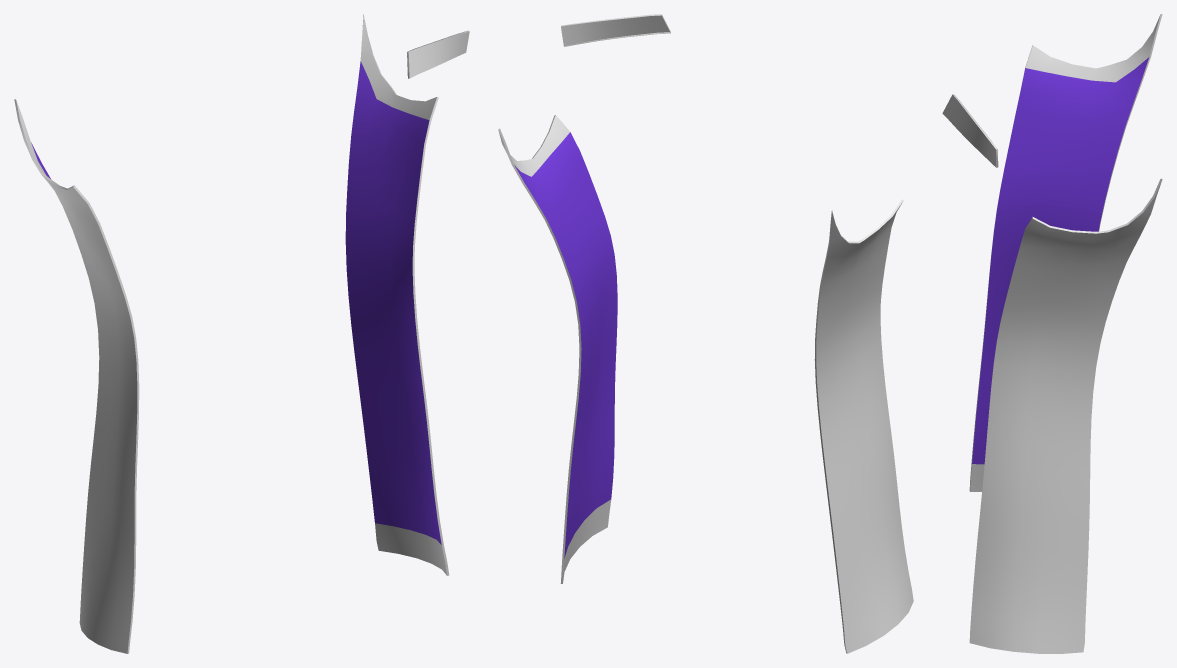
File: Jacket_02_Fixed.fbx
3 renders of one model, left to right at view 1: azimuth 30°, elevation 25°; view 2: azimuth 150°, elevation 25°; view 3: azimuth 270°, elevation 25°, orthographic. The views are drawn at different scales.
Parts seen in each view (by area): view 1: Fixed; view 2: Fixed; view 3: Fixed.
Part boxes in pixels (x1=…): Fixed: x1=14, y1=14, x2=469, y2=653; Fixed: x1=498, y1=14, x2=913, y2=653; Fixed: x1=942, y1=14, x2=1162, y2=653.
Size of the model in its own units: 38.71 by 54.52 by 20.15.
